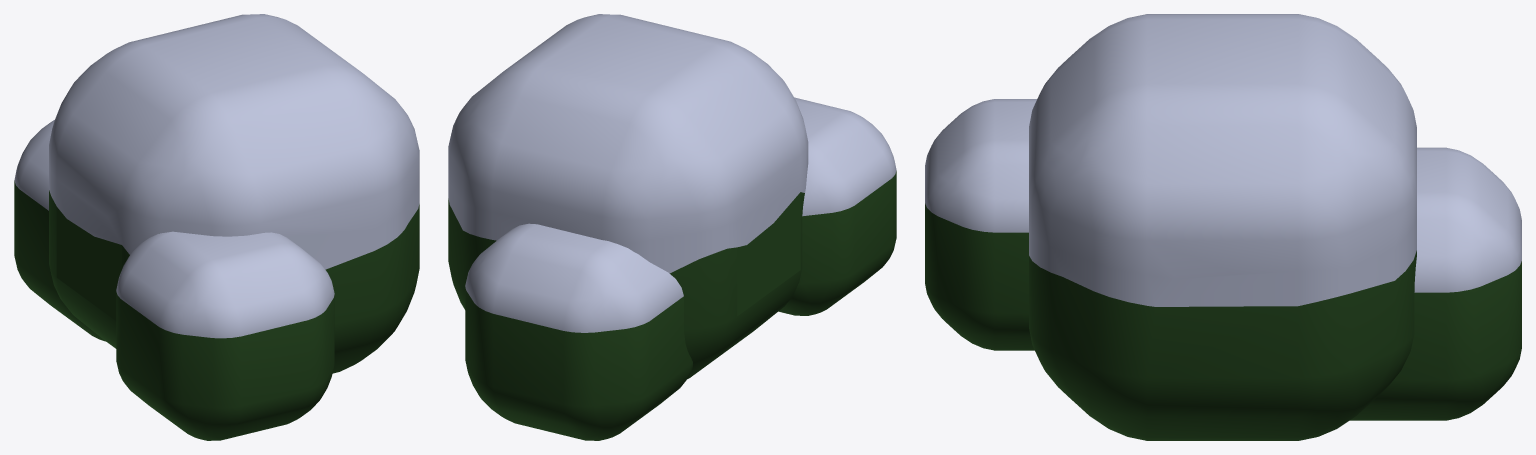
File: bush.glb
The picture shows the model from 3 angles, left to right: view 1: azimuth 30°, elevation 25°; view 2: azimuth 150°, elevation 25°; view 3: azimuth 270°, elevation 25°; orthographic projection. The views are drawn at different scales.
Visible parts, largest first — view 1: Cube, Cube.001, Cube.002; view 2: Cube, Cube.002, Cube.001; view 3: Cube, Cube.002, Cube.001.
Part boxes in pixels (x1=…): Cube: x1=49, y1=14, x2=419, y2=373; Cube.001: x1=116, y1=231, x2=334, y2=440; Cube.002: x1=14, y1=120, x2=105, y2=341; Cube: x1=448, y1=14, x2=808, y2=378; Cube.002: x1=465, y1=223, x2=692, y2=440; Cube.001: x1=778, y1=97, x2=896, y2=315; Cube: x1=1029, y1=14, x2=1416, y2=440; Cube.002: x1=1350, y1=147, x2=1521, y2=420; Cube.001: x1=925, y1=99, x2=1036, y2=350.
Size of the model in its own units: 1.91 by 1.78 by 2.68.
